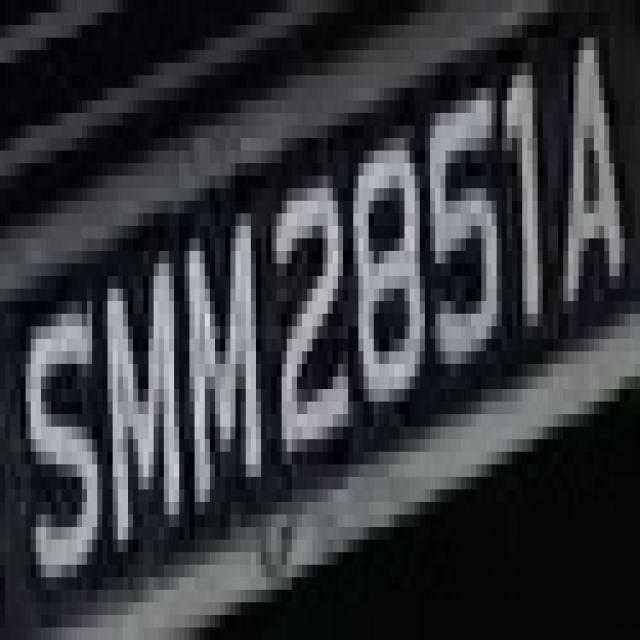1: (497, 38, 548, 364)
2: (246, 150, 353, 477)
5: (404, 75, 502, 364)
8: (333, 126, 430, 439)
A: (542, 50, 624, 339)
M: (169, 226, 271, 502), (98, 251, 190, 514)
S: (11, 314, 102, 602)
